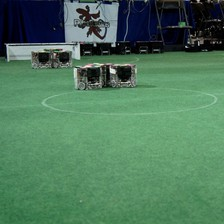goal: (2, 40, 82, 62)
robot: (106, 62, 138, 89), (71, 63, 103, 90), (30, 49, 52, 69), (52, 49, 73, 69), (113, 37, 131, 54), (148, 37, 164, 54), (92, 40, 110, 55), (133, 36, 147, 54), (77, 41, 91, 56)
